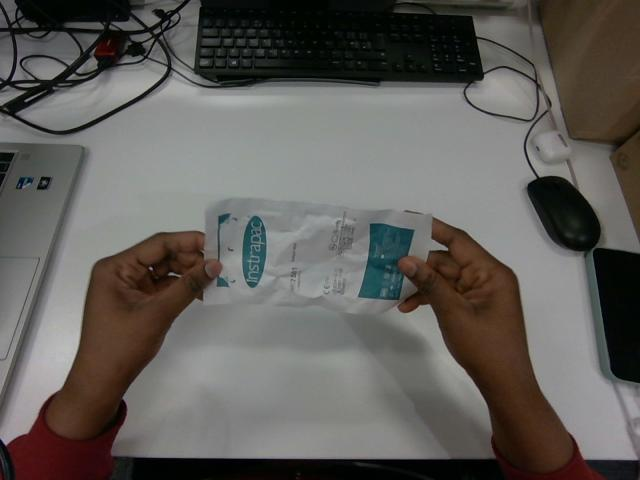gallipot: (204, 199, 431, 312)
